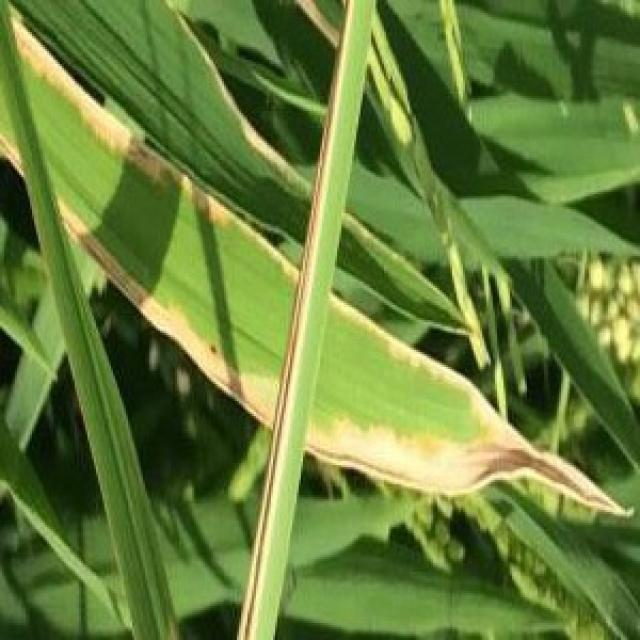Bacterial_Blight: (0, 13, 627, 514), (0, 137, 627, 512)
